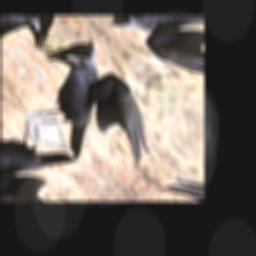Crow: (3, 24, 182, 189)
